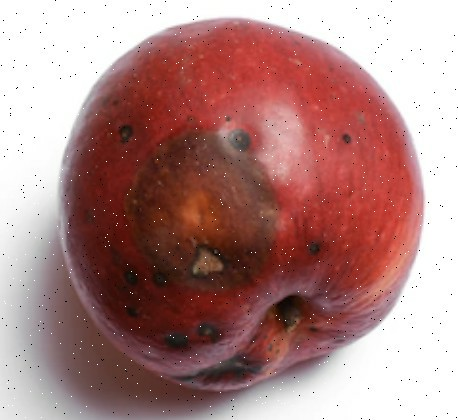rotten_apple: (57, 18, 424, 392)
